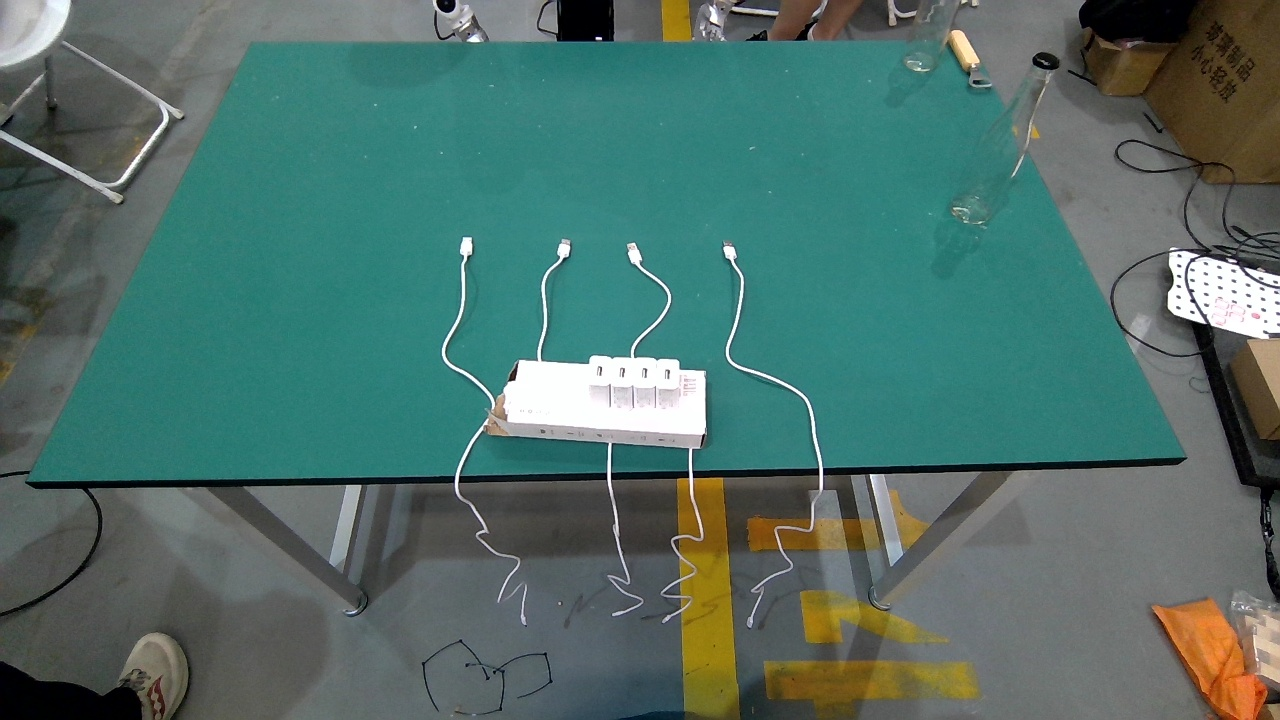usb_a_port: (1002, 419, 1022, 429), (1057, 426, 1077, 436), (1011, 450, 1031, 460), (959, 443, 978, 453), (1068, 457, 1087, 467), (951, 413, 972, 421)
